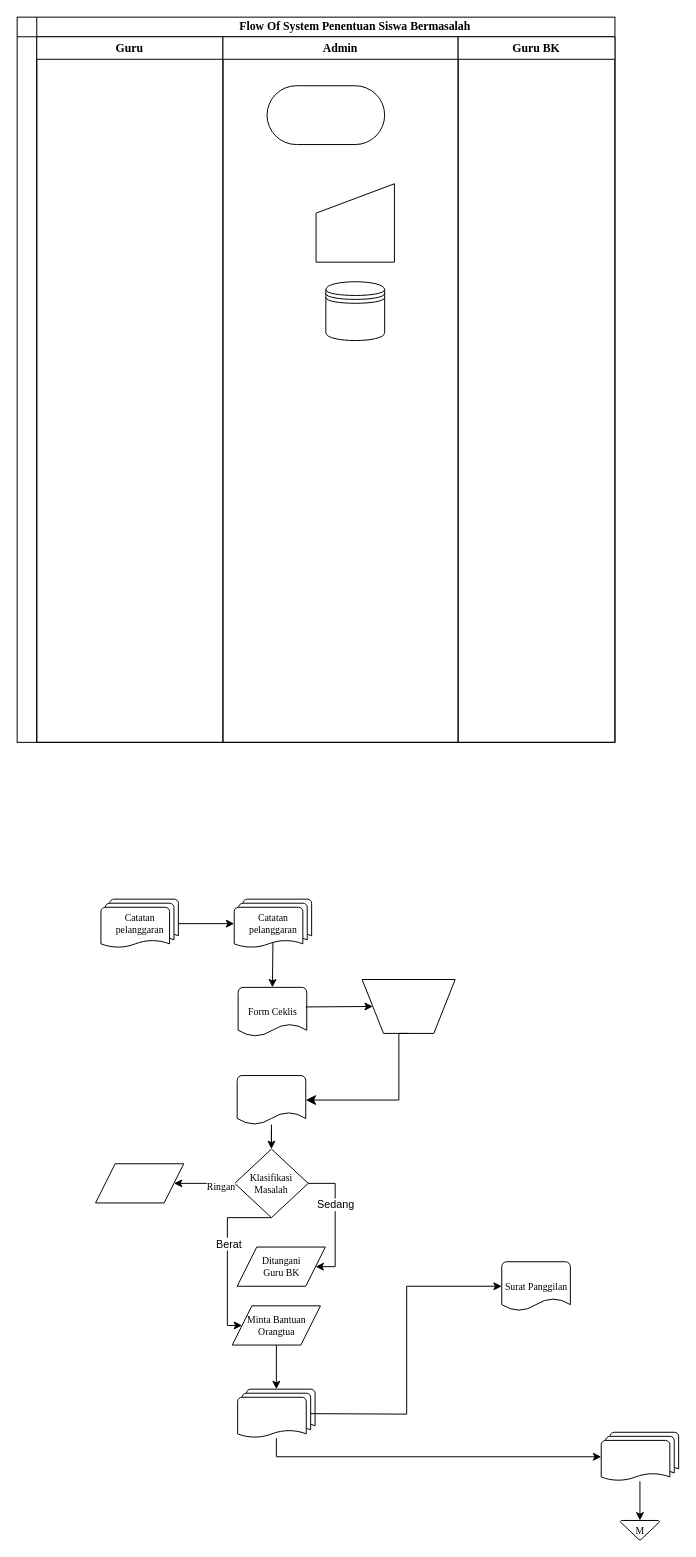
This 696x1557 diagram has some shape labels left out. Here are the shapes that lost their labels. From the top down, the centre of each, then its label:
At point (408, 1006): "Wawancara".
At point (271, 1100): "Hasil Observasi".
At point (139, 1183): "Ditangani Guru/Wali Kelas".
At point (276, 1413): "Surat Penggilan dan Laporan".
At point (639, 1456): "Laporan Data Siswa Bermasalah".
